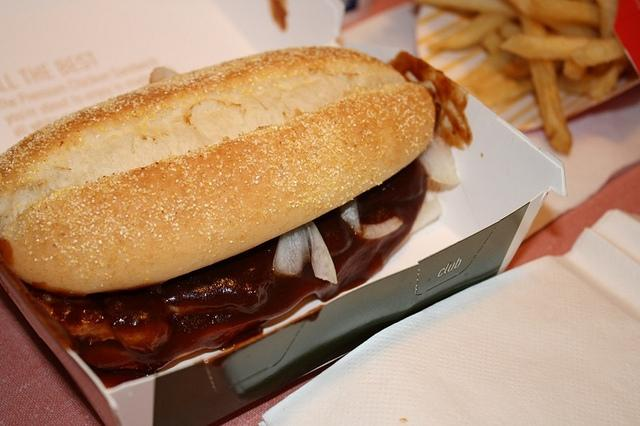onion: (272, 220, 338, 284), (340, 198, 402, 239), (418, 138, 460, 192), (408, 198, 442, 237), (150, 66, 180, 84)
